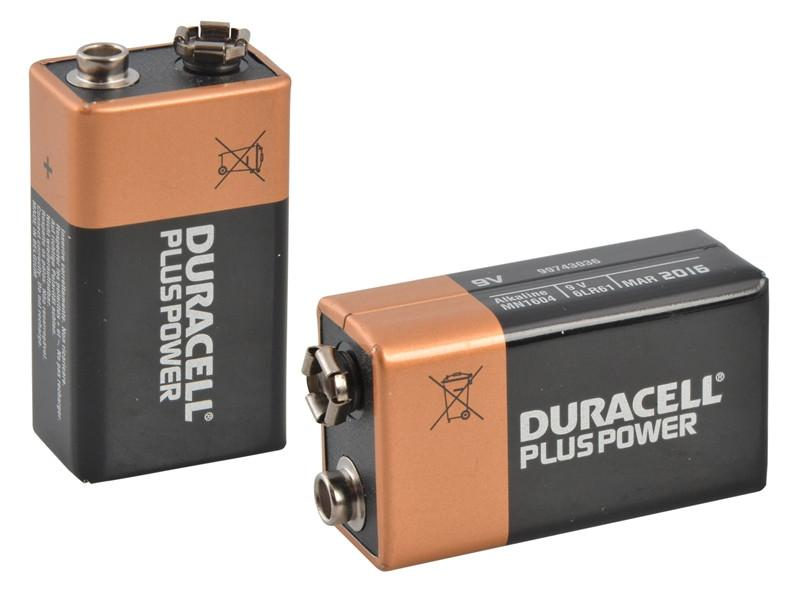9V: (313, 219, 770, 559), (14, 17, 293, 490)
